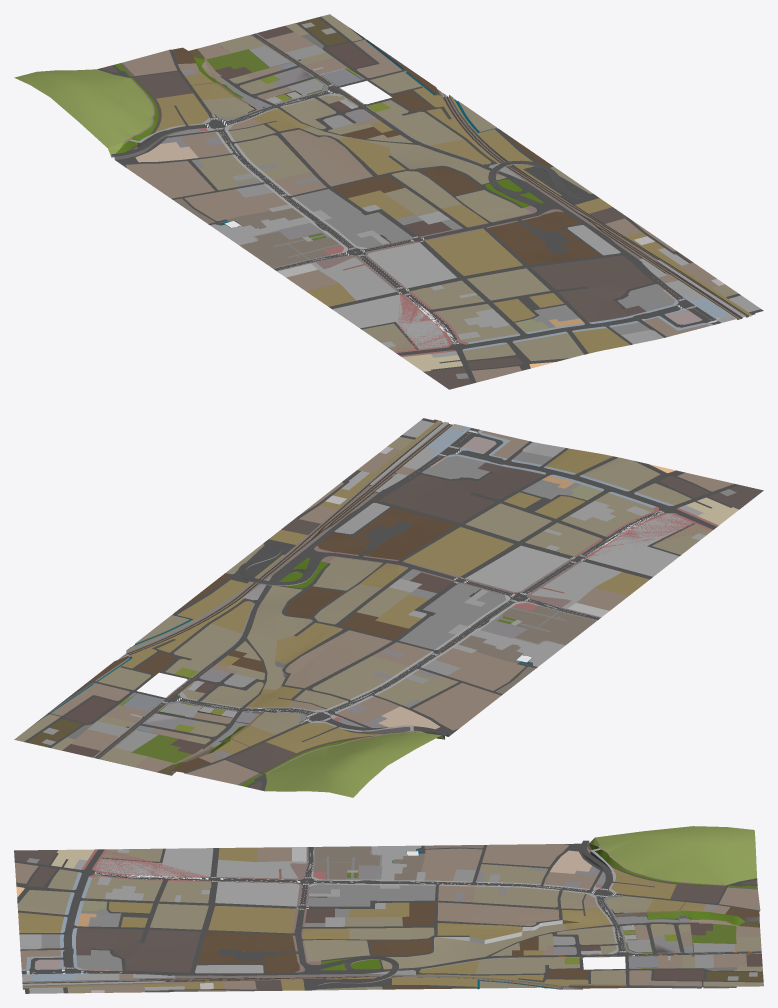
File: sabae-pj3d-land.obj
The picture shows the model from 3 angles, top to bottom: view 1: azimuth 30°, elevation 25°; view 2: azimuth 150°, elevation 25°; view 3: azimuth 270°, elevation 25°; orthographic projection. The views are drawn at different scales.
Parts seen in each view (by area): view 1: Mesh51 Group56 Group1 Model, Mesh6 Group9 Group1 Model, Mesh3 Group5 Group1 Model, Mesh41 Group47 Group1 Model, Mesh43 Group50 Group1 Model, Mesh37 Group43 Group1 Model, Mesh9 Group14 Group13 Group1 Model, Mesh42 Group49 Group48 Group1 Model, Mesh12 Group15 Group1 Model, Mesh46 Group54 Group1 Model, Mesh39 Group45 Group1 Model, Mesh40 Group46 Group1 Model (+5 smaller); view 2: Mesh51 Group56 Group1 Model, Mesh6 Group9 Group1 Model, Mesh3 Group5 Group1 Model, Mesh41 Group47 Group1 Model, Mesh43 Group50 Group1 Model, Mesh37 Group43 Group1 Model, Mesh9 Group14 Group13 Group1 Model, Mesh42 Group49 Group48 Group1 Model, Mesh46 Group54 Group1 Model, Mesh12 Group15 Group1 Model, Mesh39 Group45 Group1 Model, Mesh40 Group46 Group1 Model (+5 smaller); view 3: Mesh51 Group56 Group1 Model, Mesh6 Group9 Group1 Model, Mesh3 Group5 Group1 Model, Mesh41 Group47 Group1 Model, Mesh43 Group50 Group1 Model, Mesh37 Group43 Group1 Model, Mesh9 Group14 Group13 Group1 Model, Mesh46 Group54 Group1 Model, Mesh42 Group49 Group48 Group1 Model, Mesh12 Group15 Group1 Model, Mesh39 Group45 Group1 Model, Mesh40 Group46 Group1 Model (+8 smaller).
Boxes of the visible parts, <box> form: Mesh51 Group56 Group1 Model: <box>97,14,763,389</box>; Mesh6 Group9 Group1 Model: <box>14,69,152,156</box>; Mesh3 Group5 Group1 Model: <box>487,209,600,264</box>; Mesh41 Group47 Group1 Model: <box>294,189,412,247</box>; Mesh43 Group50 Group1 Model: <box>332,294,448,349</box>; Mesh37 Group43 Group1 Model: <box>237,135,326,195</box>; Mesh9 Group14 Group13 Group1 Model: <box>134,71,209,149</box>; Mesh42 Group49 Group48 Group1 Model: <box>493,293,583,332</box>; Mesh12 Group15 Group1 Model: <box>257,23,347,74</box>; Mesh46 Group54 Group1 Model: <box>362,294,452,352</box>; Mesh39 Group45 Group1 Model: <box>435,304,519,342</box>; Mesh40 Group46 Group1 Model: <box>135,131,230,162</box>; Mesh51 Group56 Group1 Model: <box>14,418,763,791</box>; Mesh6 Group9 Group1 Model: <box>264,731,444,797</box>; Mesh3 Group5 Group1 Model: <box>314,507,456,561</box>; Mesh41 Group47 Group1 Model: <box>399,583,505,649</box>; Mesh43 Group50 Group1 Model: <box>587,514,692,576</box>; Mesh37 Group43 Group1 Model: <box>312,642,431,699</box>; Mesh9 Group14 Group13 Group1 Model: <box>228,723,383,772</box>; Mesh42 Group49 Group48 Group1 Model: <box>504,476,602,518</box>; Mesh46 Group54 Group1 Model: <box>585,513,712,558</box>; Mesh12 Group15 Group1 Model: <box>51,705,147,757</box>; Mesh39 Group45 Group1 Model: <box>561,493,654,536</box>; Mesh40 Group46 Group1 Model: <box>336,696,439,729</box>; Mesh51 Group56 Group1 Model: <box>14,840,763,993</box>; Mesh6 Group9 Group1 Model: <box>589,826,756,884</box>; Mesh3 Group5 Group1 Model: <box>197,932,304,973</box>; Mesh41 Group47 Group1 Model: <box>307,884,435,906</box>; Mesh43 Group50 Group1 Model: <box>95,848,213,876</box>; Mesh37 Group43 Group1 Model: <box>438,885,559,907</box>; Mesh9 Group14 Group13 Group1 Model: <box>587,847,724,903</box>; Mesh46 Group54 Group1 Model: <box>92,848,209,877</box>; Mesh42 Group49 Group48 Group1 Model: <box>78,900,152,927</box>; Mesh12 Group15 Group1 Model: <box>657,954,762,970</box>; Mesh39 Group45 Group1 Model: <box>85,876,162,901</box>; Mesh40 Group46 Group1 Model: <box>543,850,599,888</box>.
Bounding box in the file's own units: 534 × 43.29 × 1140.
